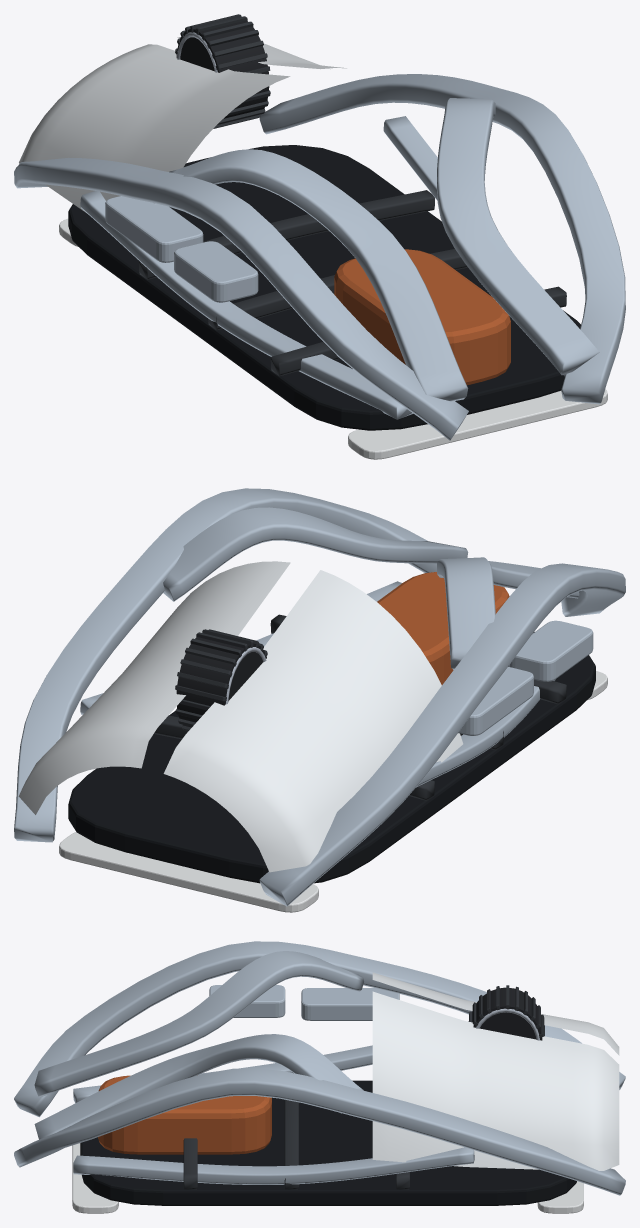
File: mouse-infinity.glb
3 renders of one model, top to bottom at view 1: azimuth 30°, elevation 25°; view 2: azimuth 150°, elevation 25°; view 3: azimuth 270°, elevation 25°, orthographic. The views are drawn at different scales.
Parts seen in each view (by area): view 1: 마그네슘 알루미늄 외골격 (×6), 노출 하부·교체형 배터리 (×5), 왼쪽 클릭판, 측면 전진·뒤로 버튼 (×2), 하부 센서·슬라이드 피트, 스크롤 휠, 오른쪽 클릭판; view 2: 마그네슘 알루미늄 외골격 (×6), 왼쪽 클릭판, 노출 하부·교체형 배터리 (×4), 오른쪽 클릭판, 측면 전진·뒤로 버튼 (×2), 하부 센서·슬라이드 피트, 스크롤 휠; view 3: 마그네슘 알루미늄 외골격 (×6), 노출 하부·교체형 배터리 (×4), 오른쪽 클릭판, 측면 전진·뒤로 버튼 (×2), 하부 센서·슬라이드 피트 (×2), 스크롤 휠, 왼쪽 클릭판.
Boxes of the visible parts, box(x1,y1,x2,y2) form: 마그네슘 알루미늄 외골격 (×6): box(14, 74, 625, 440); 노출 하부·교체형 배터리 (×5): box(68, 145, 580, 430); 왼쪽 클릭판: box(19, 44, 290, 213); 측면 전진·뒤로 버튼 (×2): box(105, 196, 258, 302); 하부 센서·슬라이드 피트: box(348, 389, 607, 459); 스크롤 휠: box(176, 20, 269, 118); 오른쪽 클릭판: box(177, 37, 346, 69); 마그네슘 알루미늄 외골격 (×6): box(14, 488, 625, 906); 왼쪽 클릭판: box(163, 570, 463, 872); 노출 하부·교체형 배터리 (×4): box(68, 572, 595, 883); 오른쪽 클릭판: box(18, 561, 290, 814); 측면 전진·뒤로 버튼 (×2): box(458, 620, 593, 735); 하부 센서·슬라이드 피트: box(59, 832, 318, 912); 스크롤 휠: box(176, 633, 266, 727); 마그네슘 알루미늄 외골격 (×6): box(14, 941, 625, 1195); 노출 하부·교체형 배터리 (×4): box(80, 1072, 576, 1205); 오른쪽 클릭판: box(372, 991, 619, 1170); 측면 전진·뒤로 버튼 (×2): box(209, 985, 399, 1020); 하부 센서·슬라이드 피트 (×2): box(72, 1143, 583, 1213); 스크롤 휠: box(472, 987, 542, 1040); 왼쪽 클릭판: box(372, 972, 619, 1055).
Size of the model in its own units: 1.74 by 0.9909 by 3.03.
